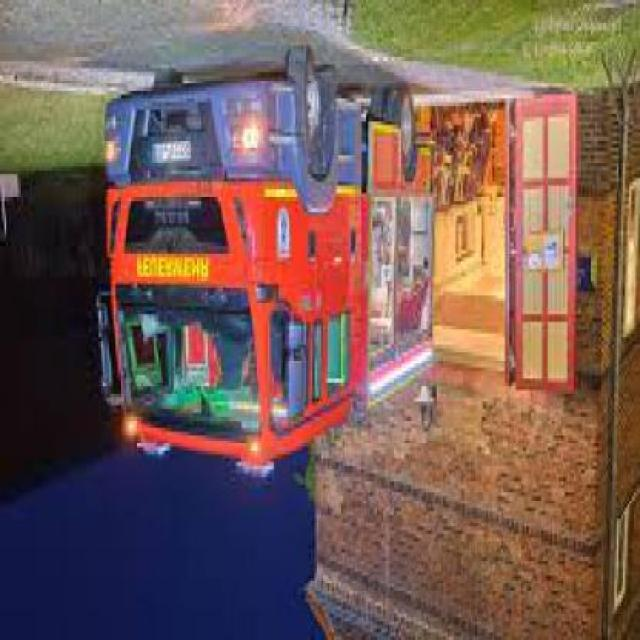Fire Truck: (92, 38, 440, 504)
